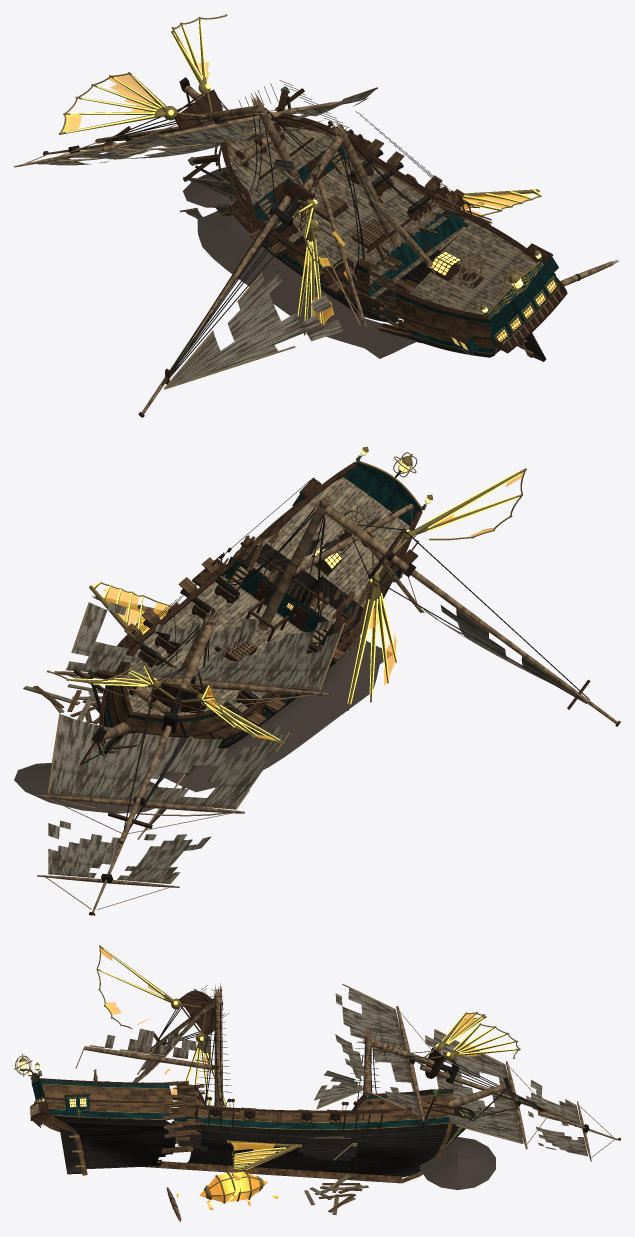
Rendered from sky_galleon_wreck.glb.
The picture shows the model from 3 angles, top to bottom: view 1: azimuth 30°, elevation 25°; view 2: azimuth 150°, elevation 25°; view 3: azimuth 270°, elevation 25°; orthographic projection. The views are drawn at different scales.
Visible parts, largest first — view 1: Hull_Fore, Hull_Aft, Furrow, WingSails, Burn_SailsMain, Burn_SailsFore, Rig, Fallen_Main, Burn_BreakFore, Burn_BreakAft, Fallen_Fore; view 2: Burn_SailsFore, Hull_Fore, Hull_Aft, Furrow, WingSails, Fallen_Fore, Burn_BreakFore, Rig, Fallen_Main, Burn_BreakAft, Burn_SailsMain, Burn_Debris; view 3: Hull_Fore, Burn_SailsFore, Hull_Aft, WingSails, Rig, Fallen_Fore, Burn_BreakFore, Furrow, Burn_BreakAft, Fallen_Main, Keelstone, Burn_Boom (+1 smaller).
Part boxes in pixels (x1,y1,x2,y2): Hull_Fore: [183, 86, 500, 350]; Hull_Aft: [418, 220, 567, 361]; Furrow: [183, 167, 416, 358]; WingSails: [59, 14, 541, 335]; Burn_SailsMain: [164, 227, 465, 389]; Burn_SailsFore: [28, 87, 377, 219]; Rig: [179, 77, 470, 294]; Fallen_Main: [138, 127, 366, 417]; Burn_BreakFore: [345, 189, 473, 326]; Burn_BreakAft: [369, 206, 492, 345]; Fallen_Fore: [14, 83, 337, 167]; Burn_SailsFore: [47, 602, 344, 883]; Hull_Fore: [73, 572, 345, 755]; Hull_Aft: [250, 446, 432, 619]; Furrow: [14, 636, 392, 813]; WingSails: [47, 468, 526, 744]; Fallen_Fore: [36, 615, 328, 915]; Burn_BreakFore: [201, 536, 365, 668]; Rig: [79, 480, 413, 765]; Fallen_Main: [311, 500, 620, 726]; Burn_BreakAft: [232, 513, 386, 654]; Burn_SailsMain: [297, 526, 584, 701]; Burn_Debris: [23, 684, 104, 724]; Hull_Fore: [143, 1088, 483, 1183]; Burn_SailsFore: [314, 984, 587, 1160]; Hull_Aft: [14, 1053, 169, 1175]; WingSails: [96, 945, 520, 1170]; Rig: [75, 983, 518, 1147]; Fallen_Fore: [358, 1006, 620, 1161]; Burn_BreakFore: [169, 1080, 227, 1164]; Furrow: [167, 1128, 495, 1189]; Burn_BreakAft: [134, 1081, 192, 1166]; Fallen_Main: [133, 985, 228, 1082]; Keelstone: [176, 1170, 278, 1209]; Burn_Boom: [89, 1028, 210, 1062].
Size of what is drawn, in the model's own units: 29.54 by 12.67 by 40.43.
7 materials, 6 textured.
